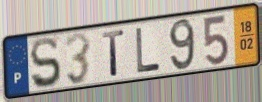3: (64, 30, 95, 87)
5: (201, 12, 231, 67)
9: (167, 17, 197, 72)
L: (134, 26, 163, 74)
S: (28, 35, 63, 91)
T: (101, 28, 127, 78)
